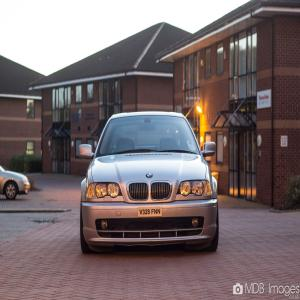Vehicle-registration-plate: (139, 206, 163, 218)
